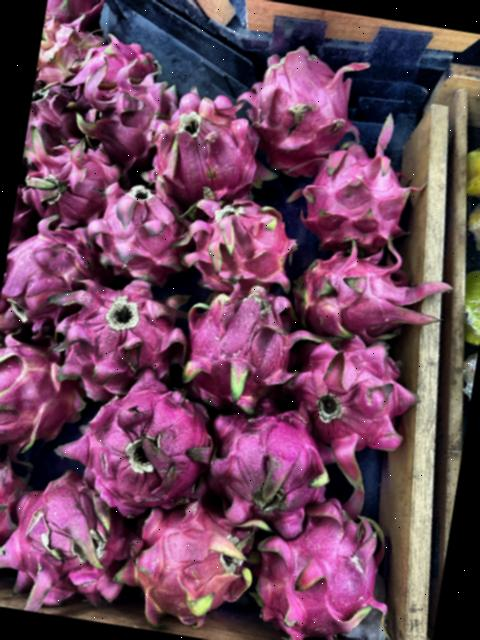buah-naga-matang: (248, 493, 394, 640), (74, 367, 220, 507), (283, 228, 461, 342), (0, 466, 130, 622), (170, 266, 310, 410), (46, 265, 194, 394), (116, 498, 264, 622), (228, 38, 361, 168), (290, 332, 420, 464), (203, 399, 339, 520), (292, 134, 418, 261), (71, 64, 197, 186), (145, 87, 273, 205), (175, 179, 299, 296), (0, 327, 98, 468), (0, 214, 104, 343), (90, 172, 202, 286), (14, 140, 110, 229), (69, 34, 171, 102), (27, 72, 100, 165), (34, 22, 96, 93), (0, 448, 28, 576)
